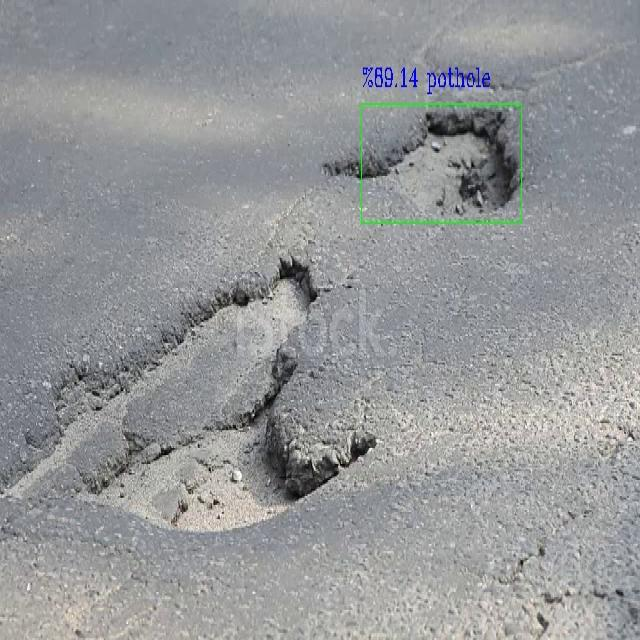pothole: (364, 108, 520, 218)
